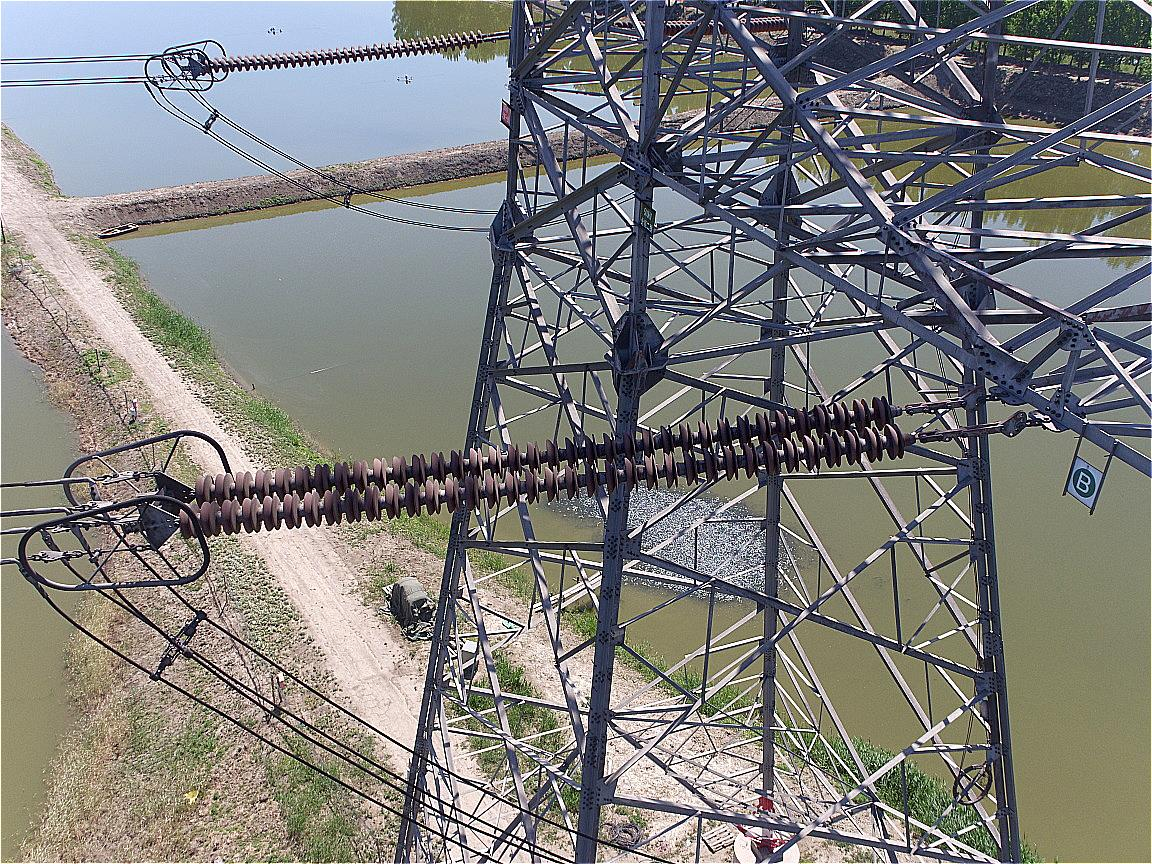insultor1: (211, 28, 482, 73)
insultor2: (179, 395, 906, 539)
